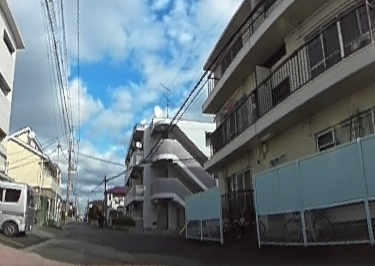person: (96, 210, 106, 226)
